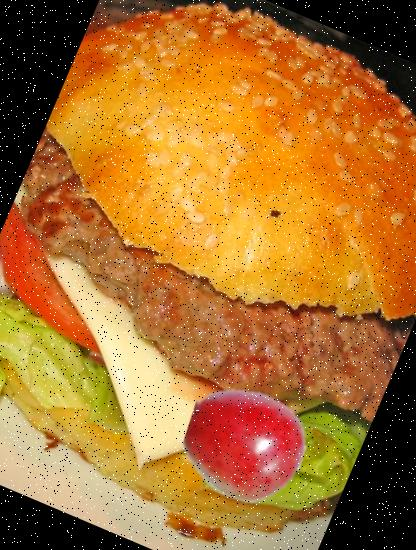Cherry: (166, 368, 322, 525)
